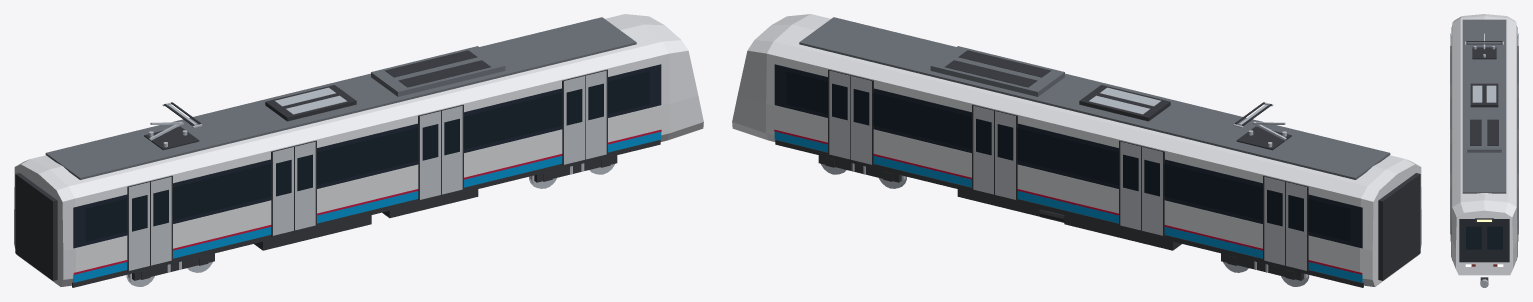
Rendered from rer_b_mi79_cab.glb.
The picture shows the model from 3 angles, left to right: view 1: azimuth 30°, elevation 25°; view 2: azimuth 150°, elevation 25°; view 3: azimuth 270°, elevation 25°; orthographic projection. The views are drawn at different scales.
Visible parts, largest first — view 1: rer_b_mi79_cab; view 2: rer_b_mi79_cab; view 3: rer_b_mi79_cab.
Part boxes in pixels (box(x1,y1,x2,y2)): rer_b_mi79_cab: box(14, 14, 703, 287); rer_b_mi79_cab: box(732, 14, 1421, 287); rer_b_mi79_cab: box(1450, 14, 1518, 287).
Size of the model in its own units: 20.97 by 4.56 by 2.95.
Materials: 3 (3 with a texture image).
